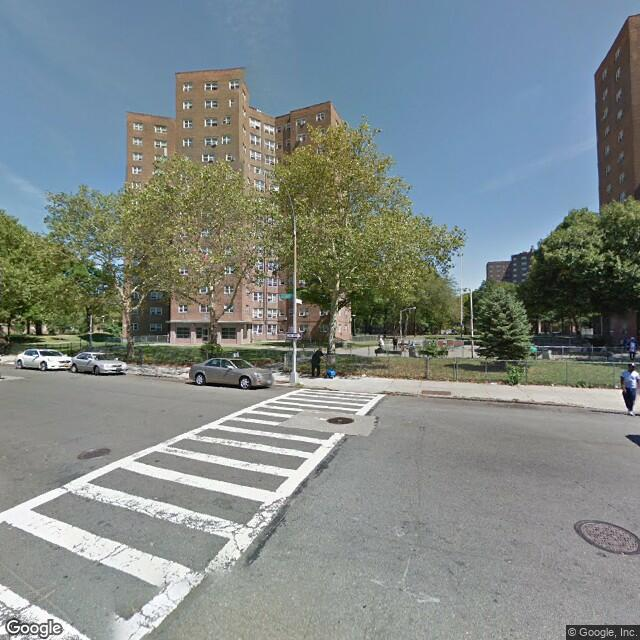litter: (350, 365, 376, 383), (488, 375, 507, 391)
